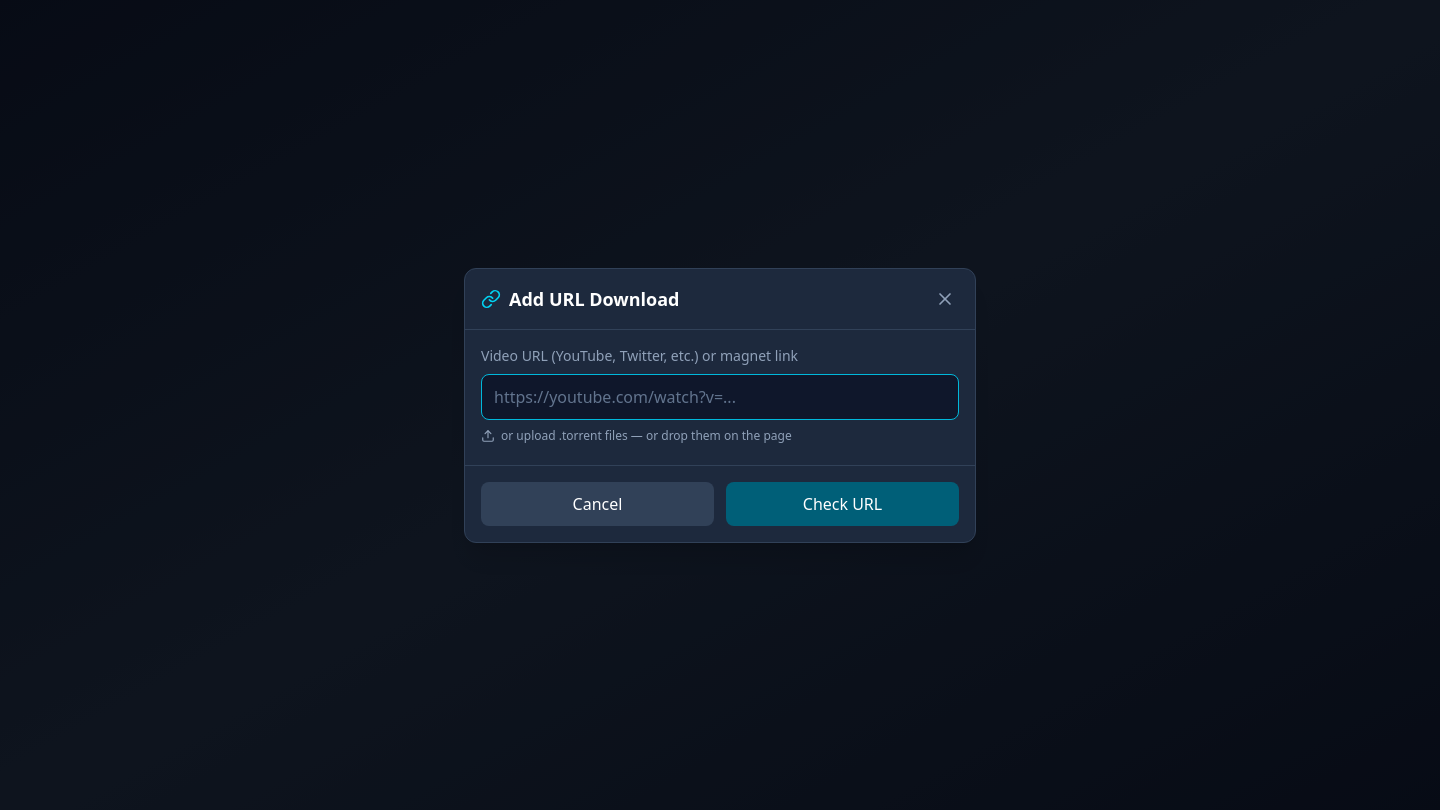
Scenario: AddUrlModal - URL check and download › shows a spinner while checking and ignores Enter meanwhile
This screenshot has width=1440, height=810.
In the field with placeholder "https://youtube.com/watch?v=...": (720, 396) [481,374,959,420], type "https://example.com/a"
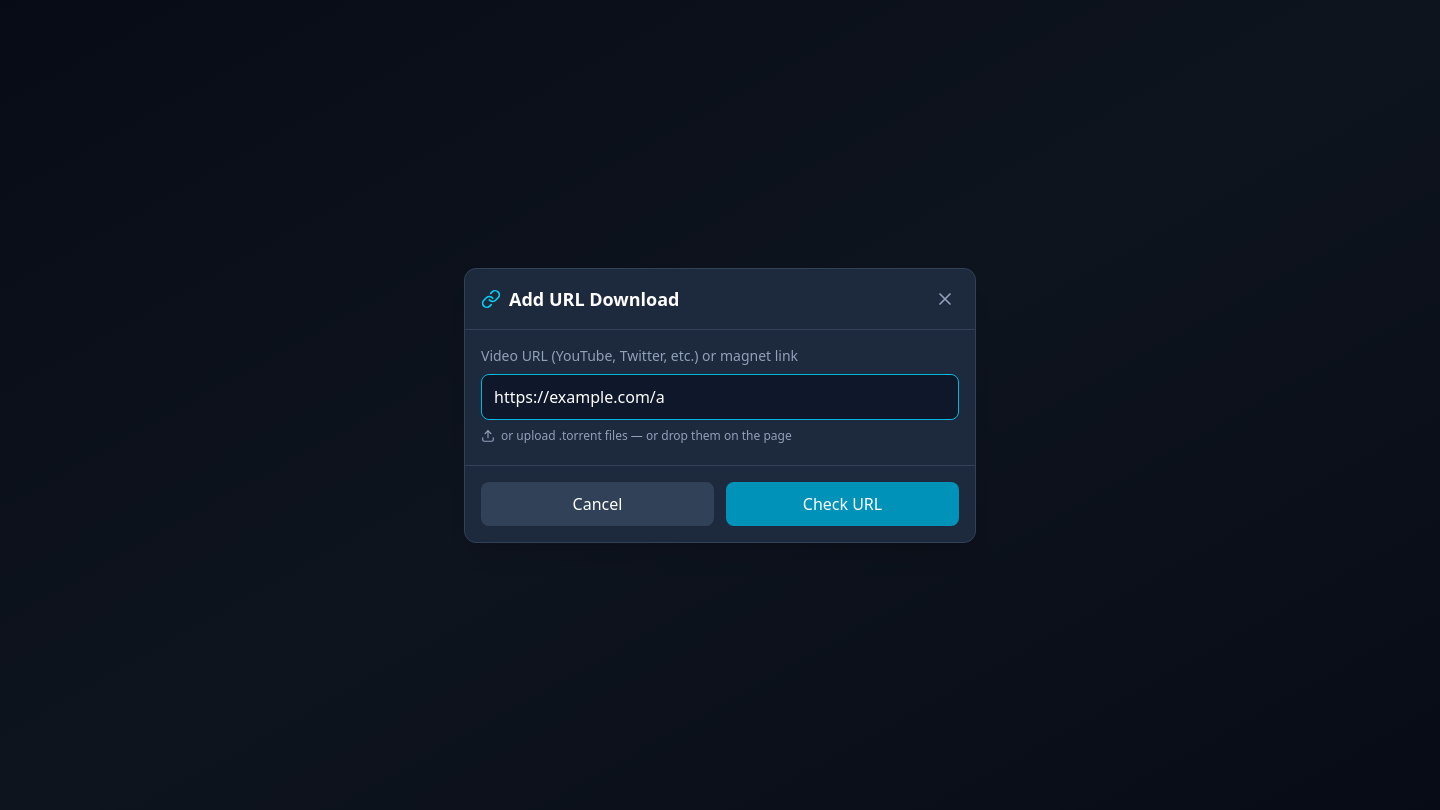
Click the button "Check URL": (842, 504) [726,482,959,526]
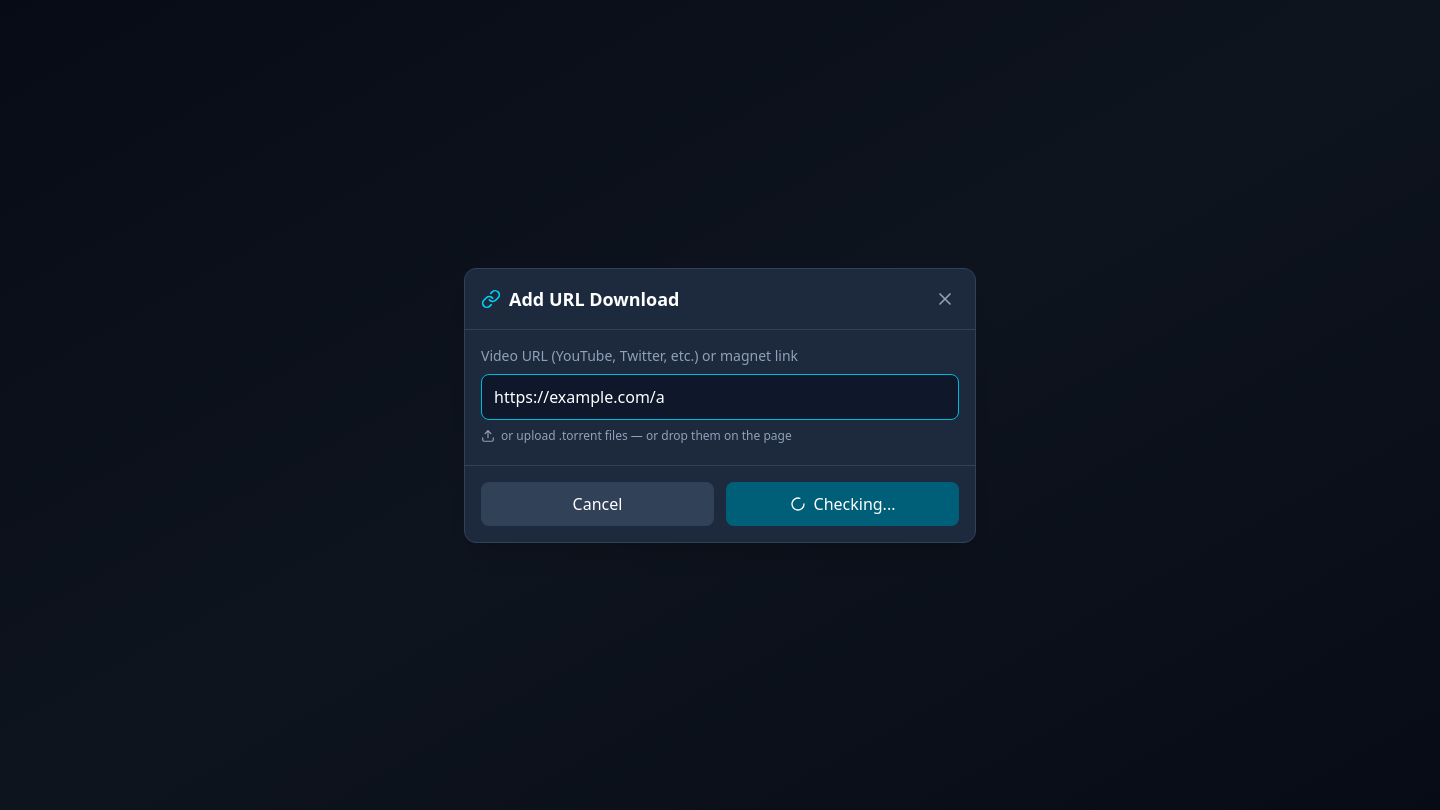
Now the button "Checking..." is disabled, box [726,482,959,526]
Press Enter in the field with placeholder "https://youtube.com/watch?v=...", box [481,374,959,420]
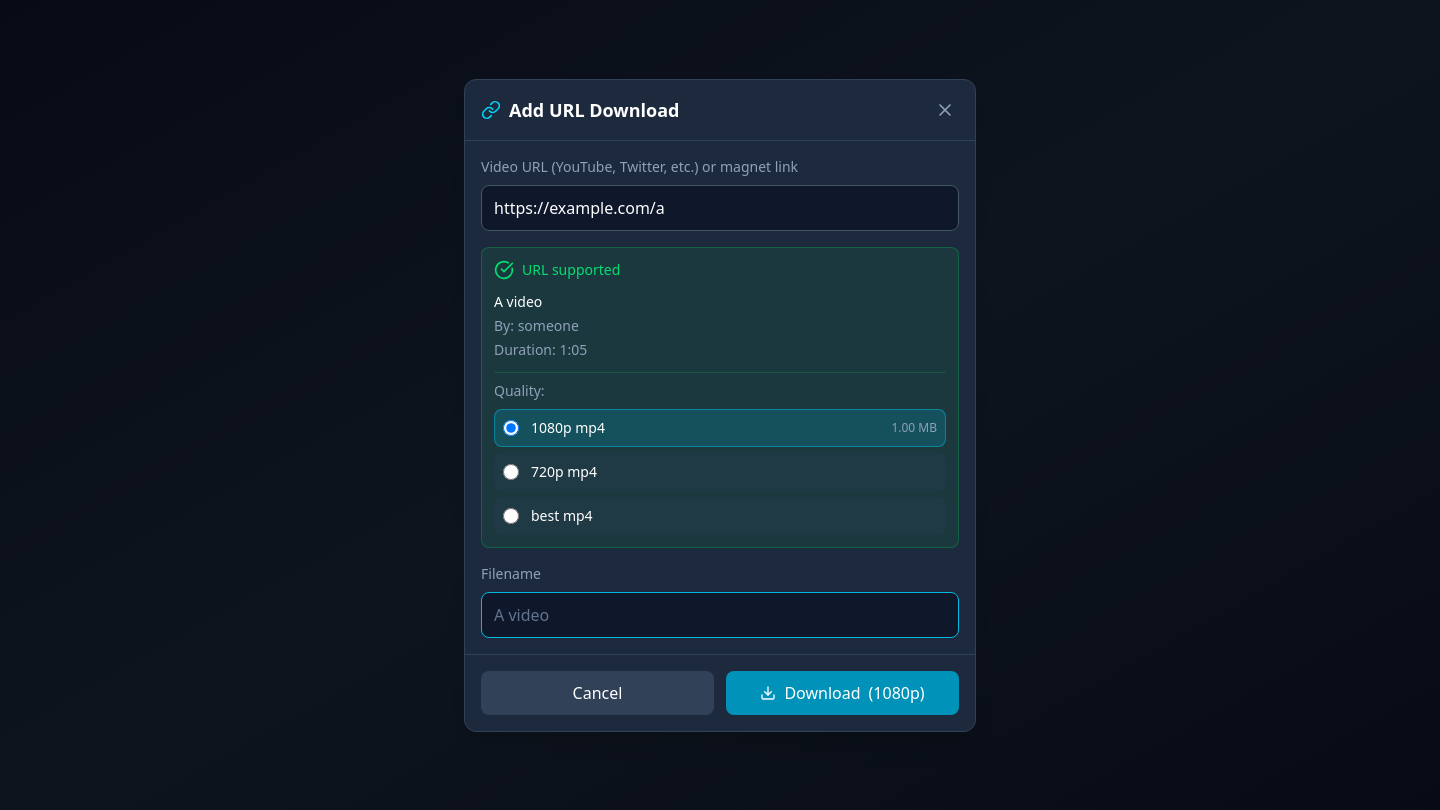
Now the text "URL supported" is shown, box [522,260,620,280]
